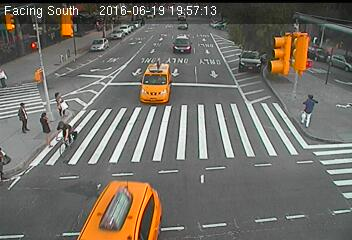neg: (49, 116, 79, 156), (208, 64, 221, 81), (340, 96, 351, 111), (65, 47, 75, 60), (100, 22, 109, 34)
pos: (294, 89, 323, 127), (7, 97, 34, 133), (36, 111, 56, 138), (51, 88, 70, 114)
